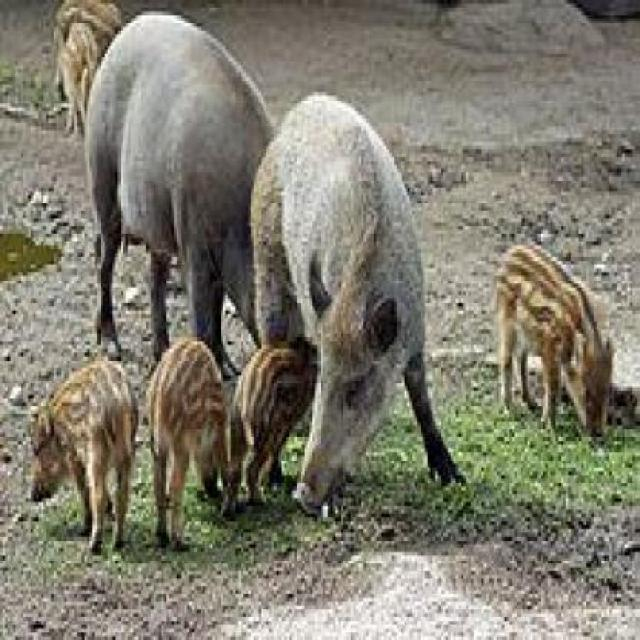wildboar: (83, 3, 312, 431), (247, 86, 473, 509), (218, 322, 342, 524), (496, 238, 618, 440), (26, 354, 142, 561), (142, 334, 244, 555), (48, 0, 136, 118)
